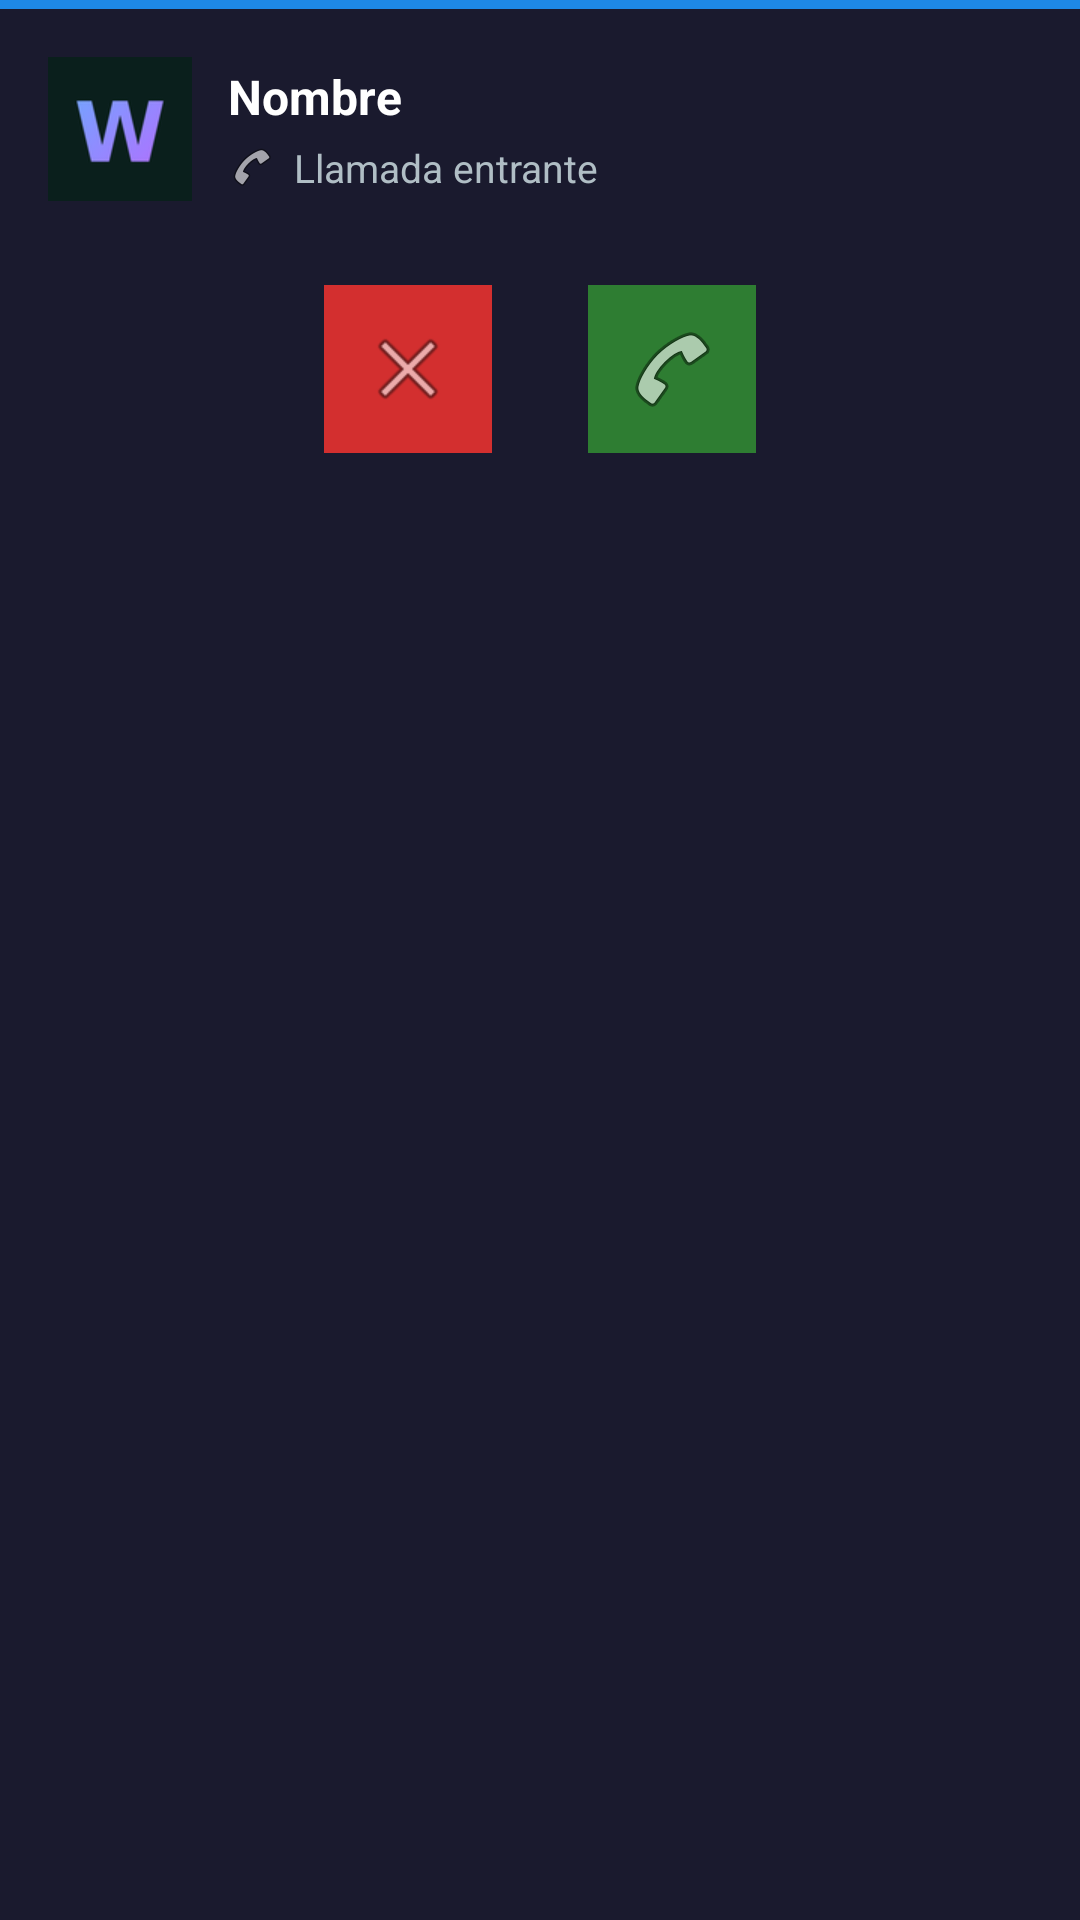

Named icons in this screenshot (1080x1920) and their bounding boxes, BBox(x1, y1, x2, y2):
Colgar: BBox(324, 285, 492, 453)
Responder: BBox(588, 285, 756, 453)
